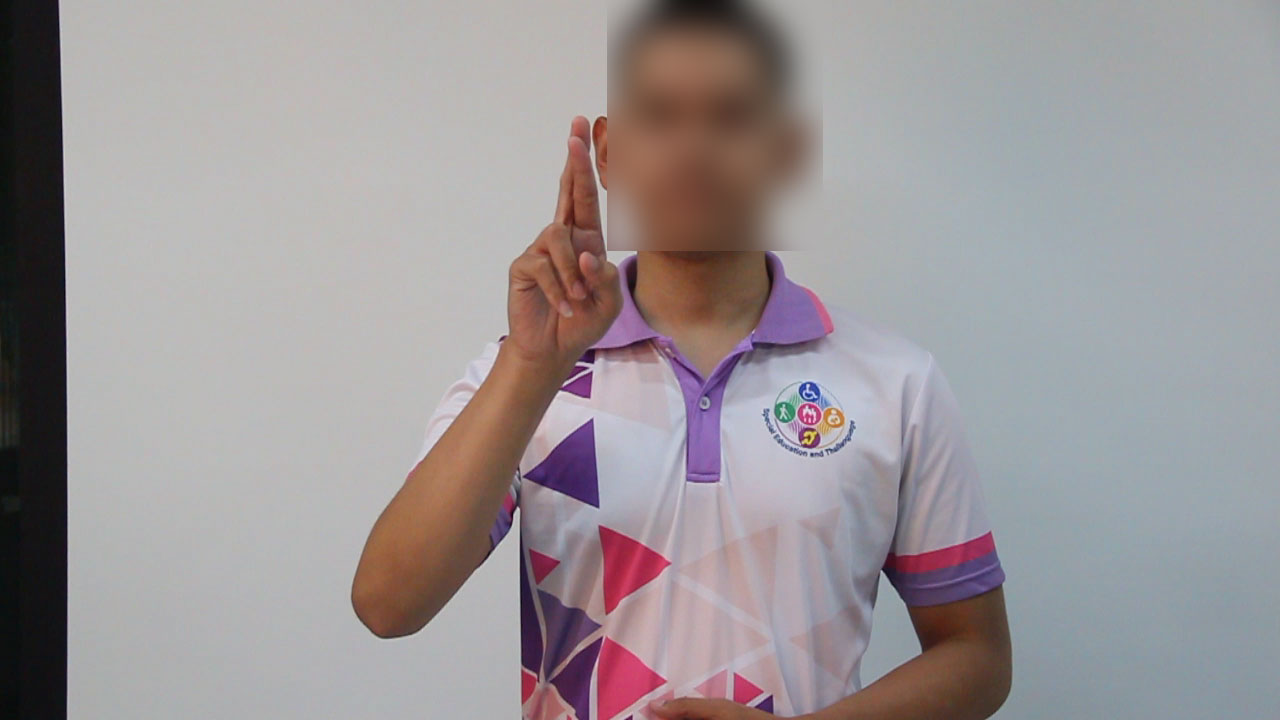rao: (490, 108, 633, 383)
